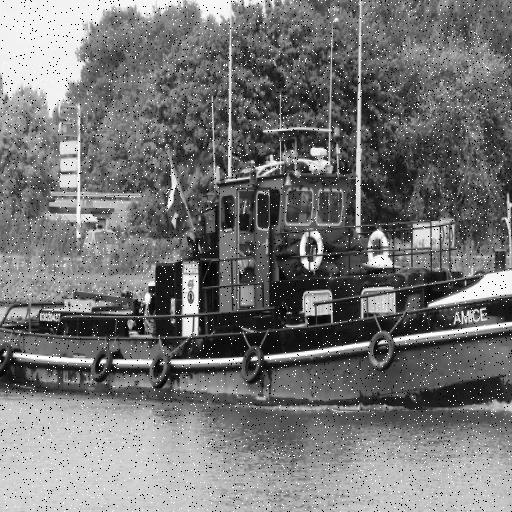tugboat: (1, 124, 512, 421)
